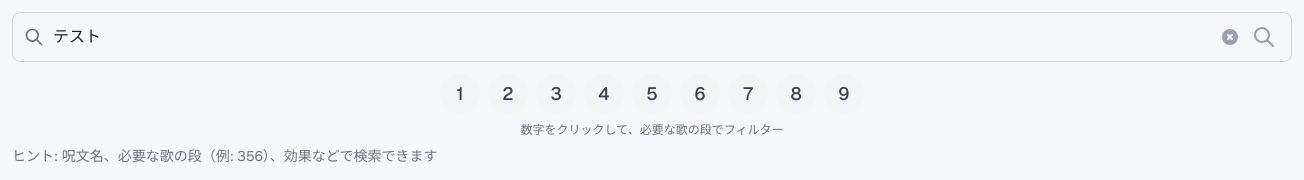
Test case: SearchBox › クリアボタンをクリックするとクエリがクリアされること
The image size is (1304, 180).
// クリアボタンをクリック
Click the button named "検索をクリア" at (1230, 37), box [1216, 23, 1244, 51]
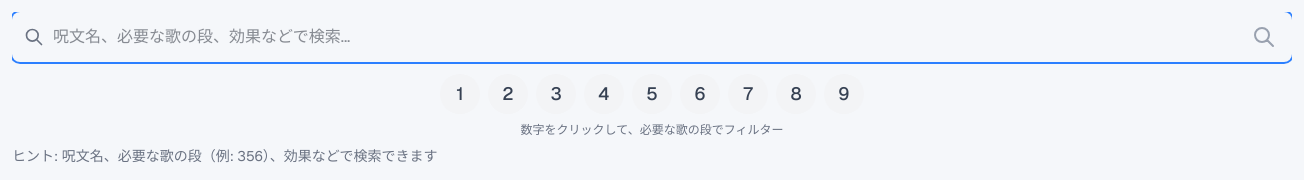
Result: the search field is empty at [12, 12, 1292, 62]
